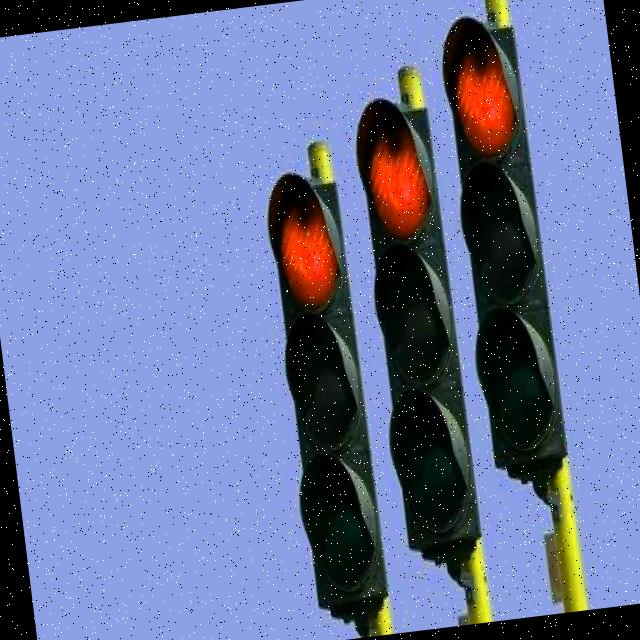Czerwone swiatlo: (356, 107, 481, 552), (442, 22, 566, 466), (267, 175, 386, 605)
